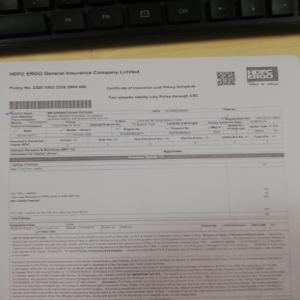image: (243, 66, 278, 82)
table: (9, 159, 288, 221), (9, 107, 284, 153)
text: (9, 262, 288, 298), (9, 230, 288, 260), (7, 67, 142, 78), (104, 93, 200, 103), (104, 83, 200, 92), (6, 83, 89, 92)
